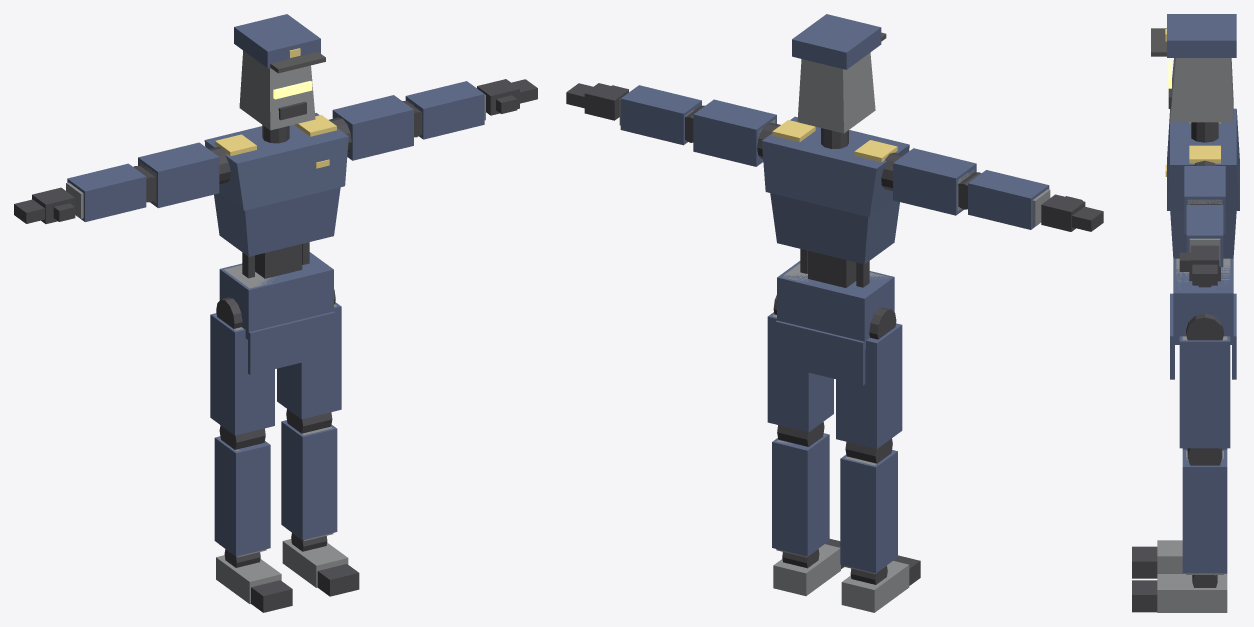
The model's file is char_F1_bridge_officer.glb.
The picture shows the model from 3 angles, left to right: view 1: azimuth 30°, elevation 25°; view 2: azimuth 150°, elevation 25°; view 3: azimuth 270°, elevation 25°; orthographic projection. The views are drawn at different scales.
Visible parts, largest first — view 1: Hips_mesh, Head_mesh, UpperChest_mesh, RightLowerLeg_mesh, LeftLowerLeg_mesh, RightUpperLeg_mesh, Chest_mesh, LeftUpperLeg_mesh, RightLowerArm_mesh, RightUpperArm_mesh, LeftUpperArm_mesh, LeftLowerArm_mesh (+9 smaller); view 2: Hips_mesh, Head_mesh, UpperChest_mesh, LeftLowerLeg_mesh, RightLowerLeg_mesh, RightUpperLeg_mesh, Chest_mesh, LeftUpperLeg_mesh, RightLowerArm_mesh, RightUpperArm_mesh, LeftUpperArm_mesh, LeftLowerArm_mesh (+7 smaller); view 3: Head_mesh, LeftUpperLeg_mesh, LeftLowerLeg_mesh, Hips_mesh, UpperChest_mesh, LeftFoot_mesh, LeftUpperArm_mesh, LeftLowerArm_mesh, LeftHand_mesh, Chest_mesh, RightFoot_mesh, LeftToes_mesh (+3 smaller).
Part boxes in pixels (<box>): Hips_mesh: <box>219,252,335,374</box>; Head_mesh: <box>234,14,325,130</box>; UpperChest_mesh: <box>204,113,348,210</box>; RightLowerLeg_mesh: <box>214,425,270,557</box>; LeftLowerLeg_mesh: <box>281,409,337,541</box>; RightUpperLeg_mesh: <box>210,297,274,435</box>; Chest_mesh: <box>214,187,340,256</box>; LeftUpperLeg_mesh: <box>277,289,341,419</box>; RightLowerArm_mesh: <box>66,163,155,221</box>; RightUpperArm_mesh: <box>138,142,219,208</box>; LeftUpperArm_mesh: <box>332,95,413,160</box>; LeftLowerArm_mesh: <box>402,81,485,139</box>; Hips_mesh: <box>775,261,894,385</box>; Head_mesh: <box>792,14,886,133</box>; UpperChest_mesh: <box>762,116,909,217</box>; LeftLowerLeg_mesh: <box>772,422,829,557</box>; RightLowerLeg_mesh: <box>840,438,897,574</box>; RightUpperLeg_mesh: <box>836,307,902,448</box>; Chest_mesh: <box>770,193,899,264</box>; LeftUpperLeg_mesh: <box>767,295,833,432</box>; RightLowerArm_mesh: <box>958,170,1050,229</box>; RightUpperArm_mesh: <box>893,148,976,215</box>; LeftUpperArm_mesh: <box>693,99,776,166</box>; LeftLowerArm_mesh: <box>619,85,704,145</box>; Head_mesh: <box>1151,14,1236,122</box>; LeftUpperLeg_mesh: <box>1179,313,1230,448</box>; LeftLowerLeg_mesh: <box>1182,448,1227,574</box>; Hips_mesh: <box>1170,258,1236,379</box>; UpperChest_mesh: <box>1165,108,1239,210</box>; LeftFoot_mesh: <box>1157,574,1227,612</box>; LeftUpperArm_mesh: <box>1184,166,1225,233</box>; LeftLowerArm_mesh: <box>1186,204,1223,267</box>; LeftHand_mesh: <box>1179,245,1219,285</box>; Chest_mesh: <box>1170,211,1236,258</box>; RightFoot_mesh: <box>1157,540,1227,573</box>; LeftToes_mesh: <box>1132,580,1157,612</box>.
Bounding box in the file's own units: 1.92 × 1.95 × 0.34.
